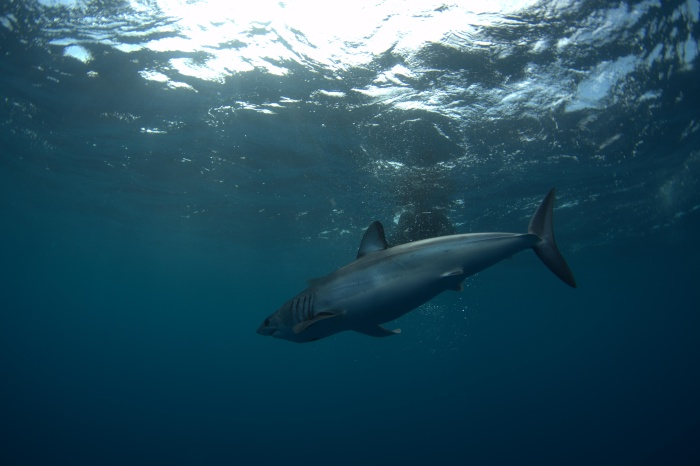Mako: (244, 179, 589, 371)
